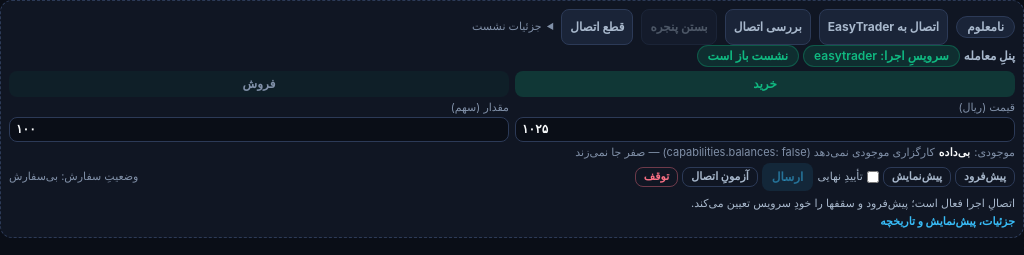
درِ رابط فقط با پشتیبانِ واقعی باز می‌شود › پیش‌فرود «ارسال‌شده» خوانده نمی‌شود — خطِ پاسخ رأیِ همان اقدام است
Click the button with test id "exec-preflight". click: [985, 177]
box: [955, 167, 1015, 187]
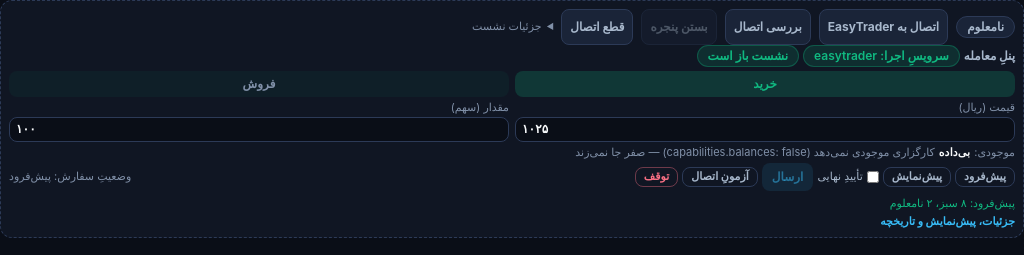
Now the text with test id "watch-order-reason" shows "پیش‌فرود: ۸ سبز", box [890, 196, 1015, 210]
Now the text with test id "watch-order-reason" shows "۲ نامعلوم", box [890, 196, 1015, 210]
Now the text with test id "watch-order-phase" shows "پیش‌فرود", box [9, 169, 51, 183]
